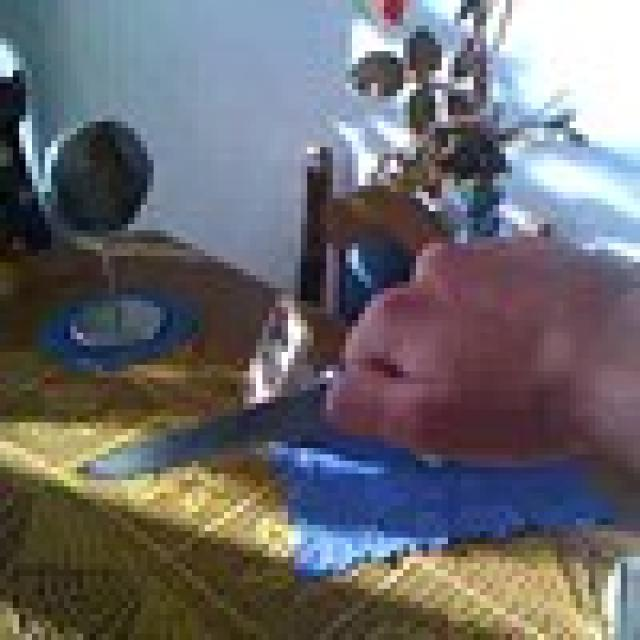Knife: (70, 358, 384, 518)
